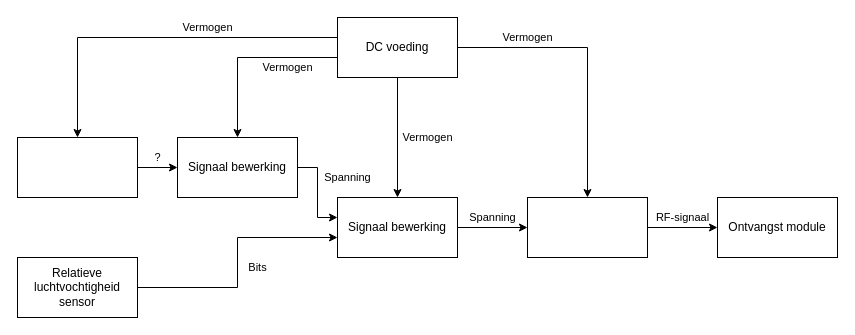
The diagram is 855 pixels wide and 335 high, and some of its shapes have lost their labels. Each missing label, with the centre of its shape:
"Temperatuur Sensor" goes at (77,167).
"Zend module" goes at (587,227).
